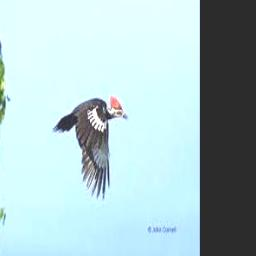Woodpecker: (52, 94, 128, 200)
